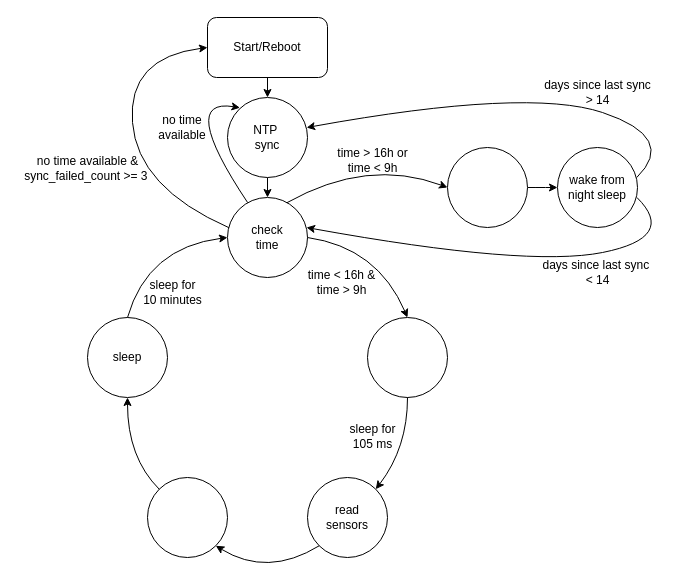
This 679x581 diagram has some shape labels left out. The centre of each missing label's shape, as x and y in pixels:
"night sleep" belongs at (x=487, y=187).
"send data" belongs at (x=187, y=517).
"wake sensors" belongs at (x=407, y=357).
